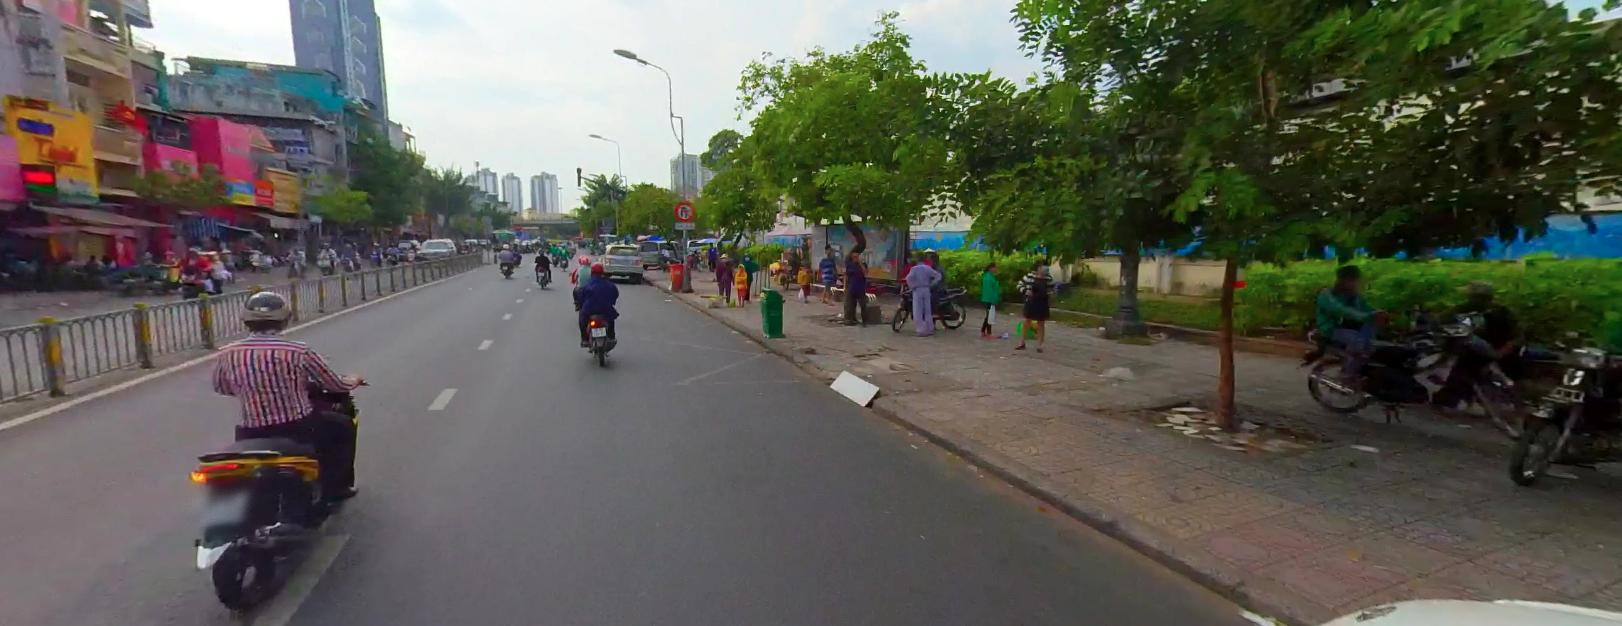Cam nguoc chieu: (513, 223, 521, 229)
Cam re: (674, 199, 694, 220)
Hieu lenh: (513, 228, 524, 236)
